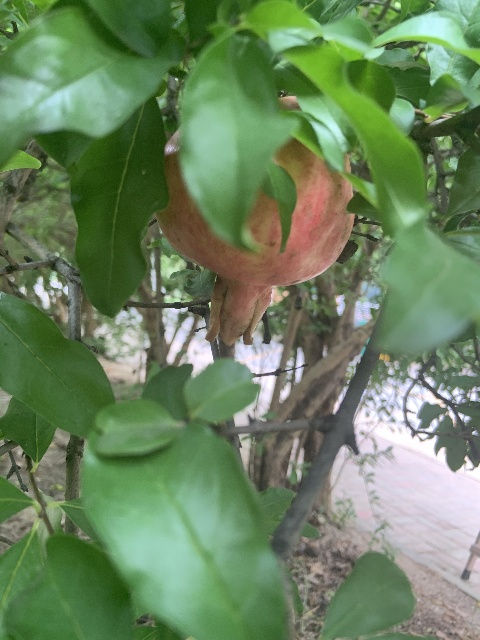ripe: (159, 94, 356, 346)
